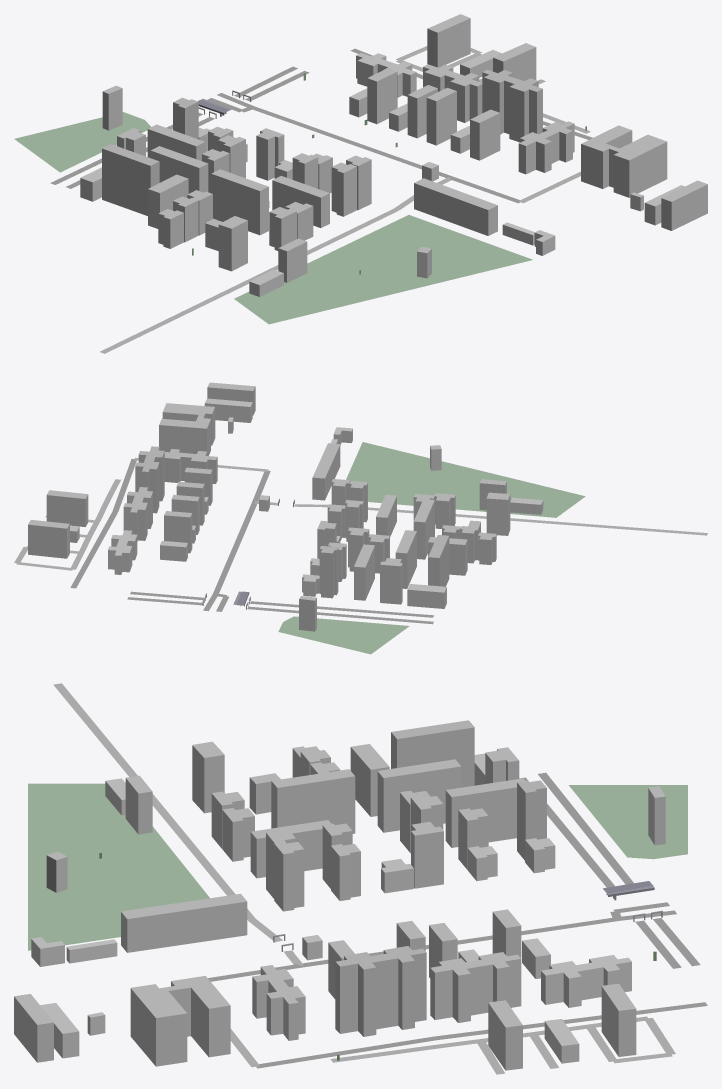
The picture shows the model from 3 angles, top to bottom: view 1: azimuth 30°, elevation 25°; view 2: azimuth 150°, elevation 25°; view 3: azimuth 270°, elevation 25°; orthographic projection. The views are drawn at different scales.
Size of the model in its own units: 696 by 58.34 by 526.
